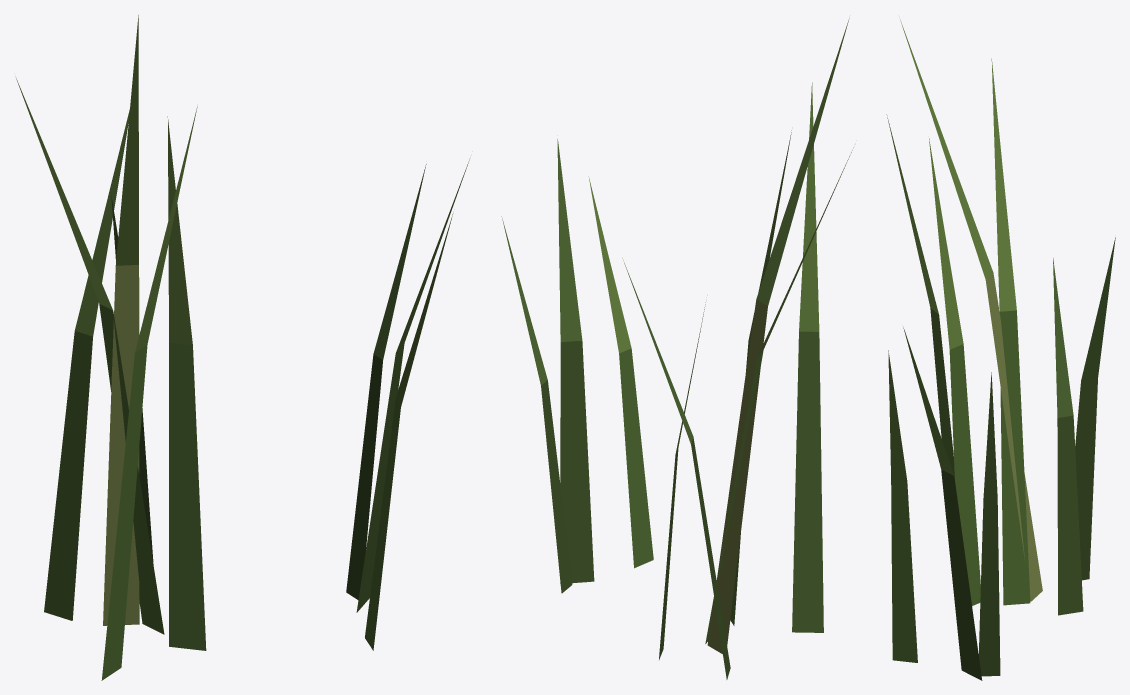
The model's file is grass-clump-c.glb.
3 views of the same model, side by side, from view 1: azimuth 30°, elevation 25°; view 2: azimuth 150°, elevation 25°; view 3: azimuth 270°, elevation 25° (orthographic). The views are drawn at different scales.
Parts seen in each view (by area): view 1: Grass_Clump_C; view 2: Grass_Clump_C; view 3: Grass_Clump_C.
Part boxes in pixels (left/top/right/bottom): Grass_Clump_C: left=16, top=15, right=469, bottom=680; Grass_Clump_C: left=501, top=18, right=853, bottom=679; Grass_Clump_C: left=886, top=19, right=1115, bottom=680.
Size of the model in its own units: 0.3137 by 0.5021 by 0.1883.
Materials: 1 (1 with a texture image).
